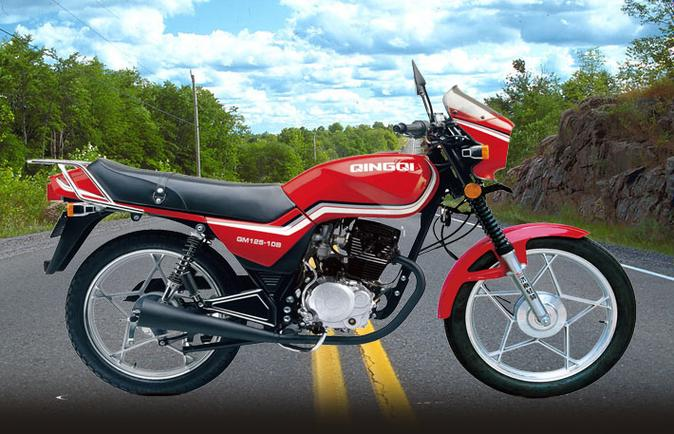摩托车: (20, 59, 642, 404)
